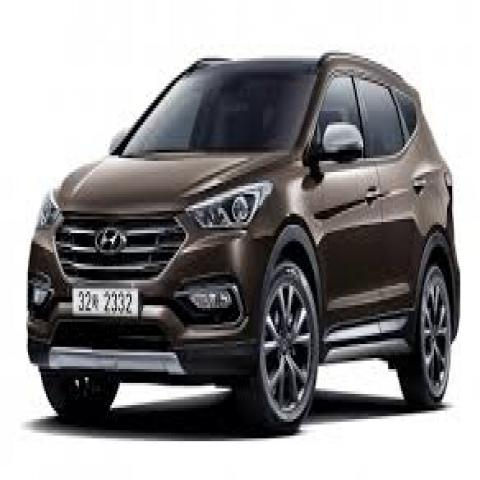LP: (70, 283, 139, 323)
